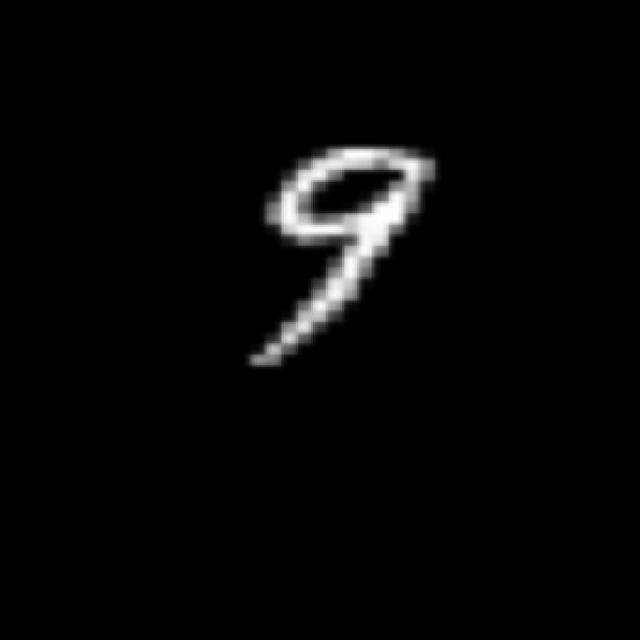nine -9-: (239, 137, 440, 374)
